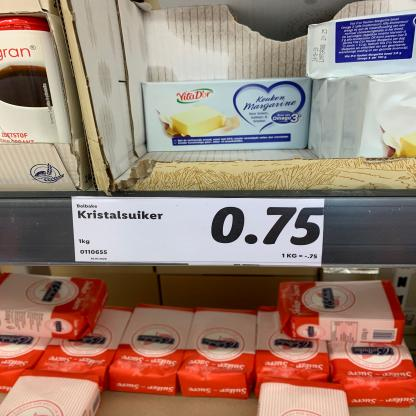prtg: (72, 197, 326, 267)
